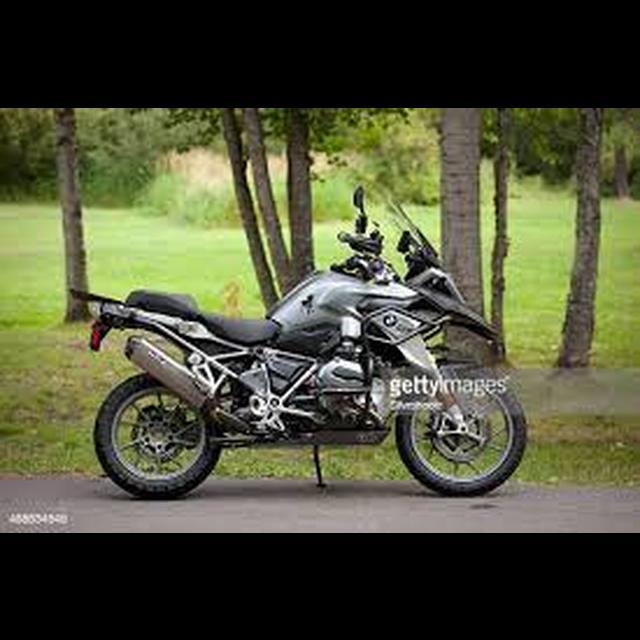motorcycle: (65, 179, 531, 499)
